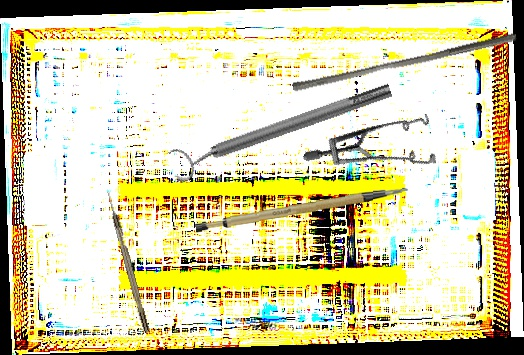Fixation Ring: (167, 73, 397, 185)
Hook Surgical: (105, 189, 150, 334)
Pusher: (291, 23, 518, 101)
Scalpel Handle: (194, 187, 410, 235)
Speculum: (302, 74, 453, 211)
